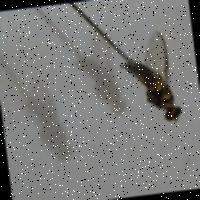Oriental-fruit-fly: (108, 27, 192, 131)
